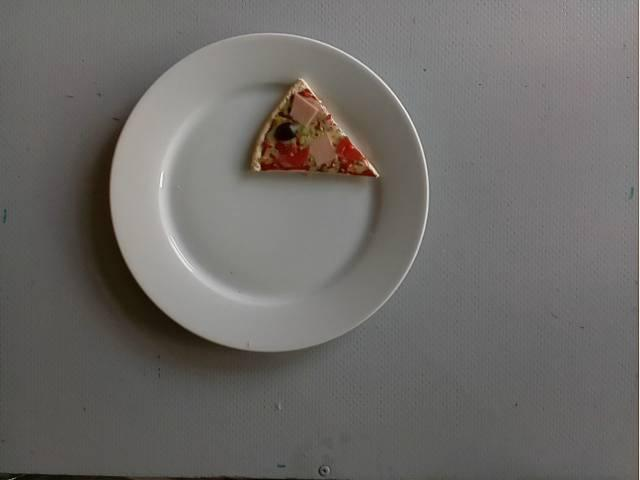Pizza slice (ham): (250, 78, 379, 180)
